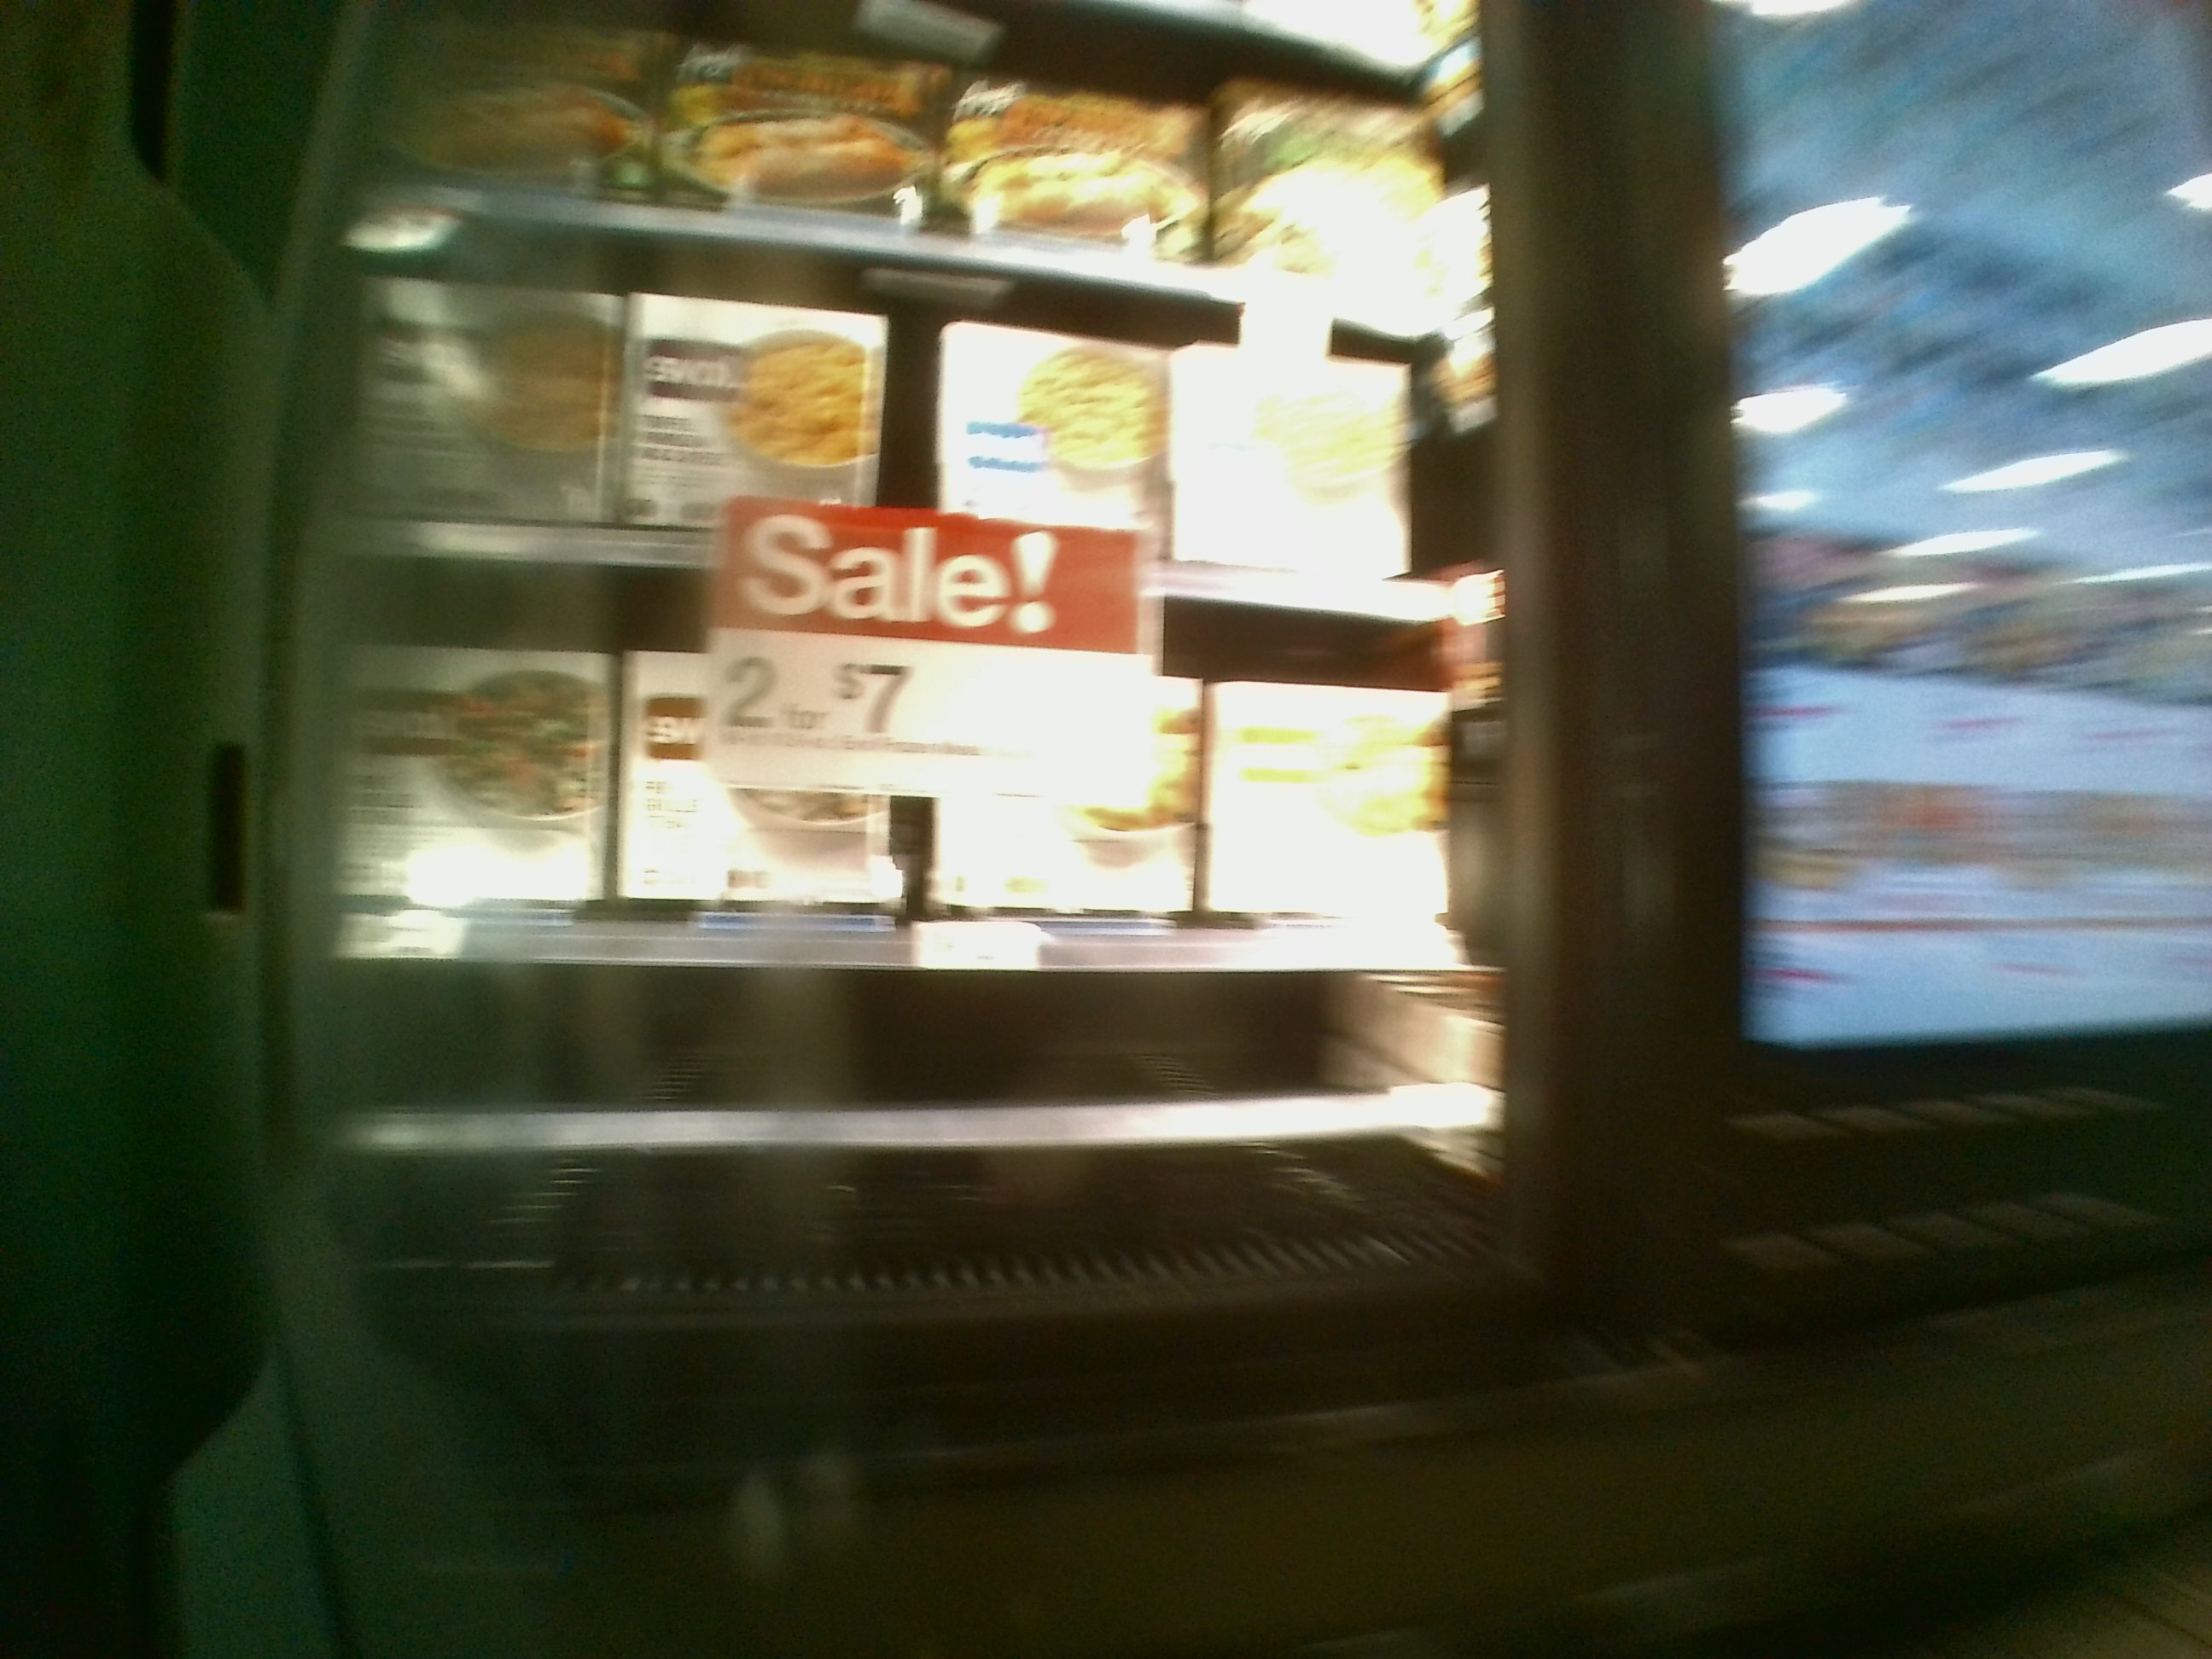shelf: (317, 598, 1505, 967), (308, 274, 1494, 596), (331, 962, 1498, 1277)
